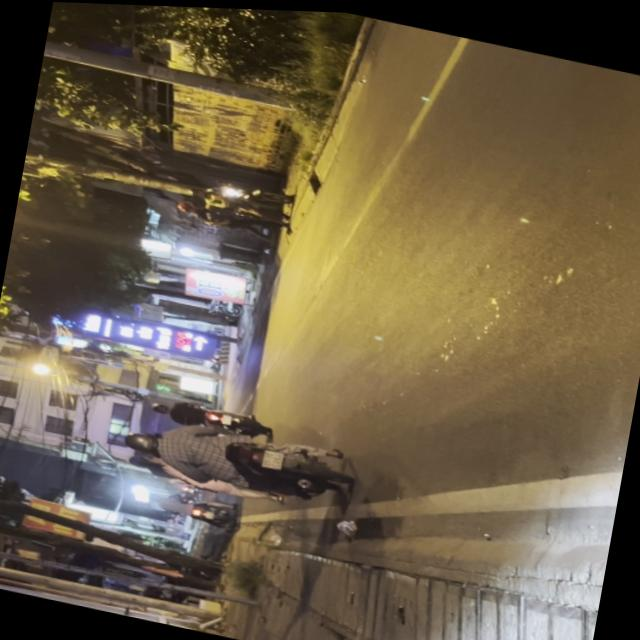helmet: (119, 425, 158, 452)
licenseplate: (108, 400, 354, 513)
nohelmet: (258, 446, 282, 467)
